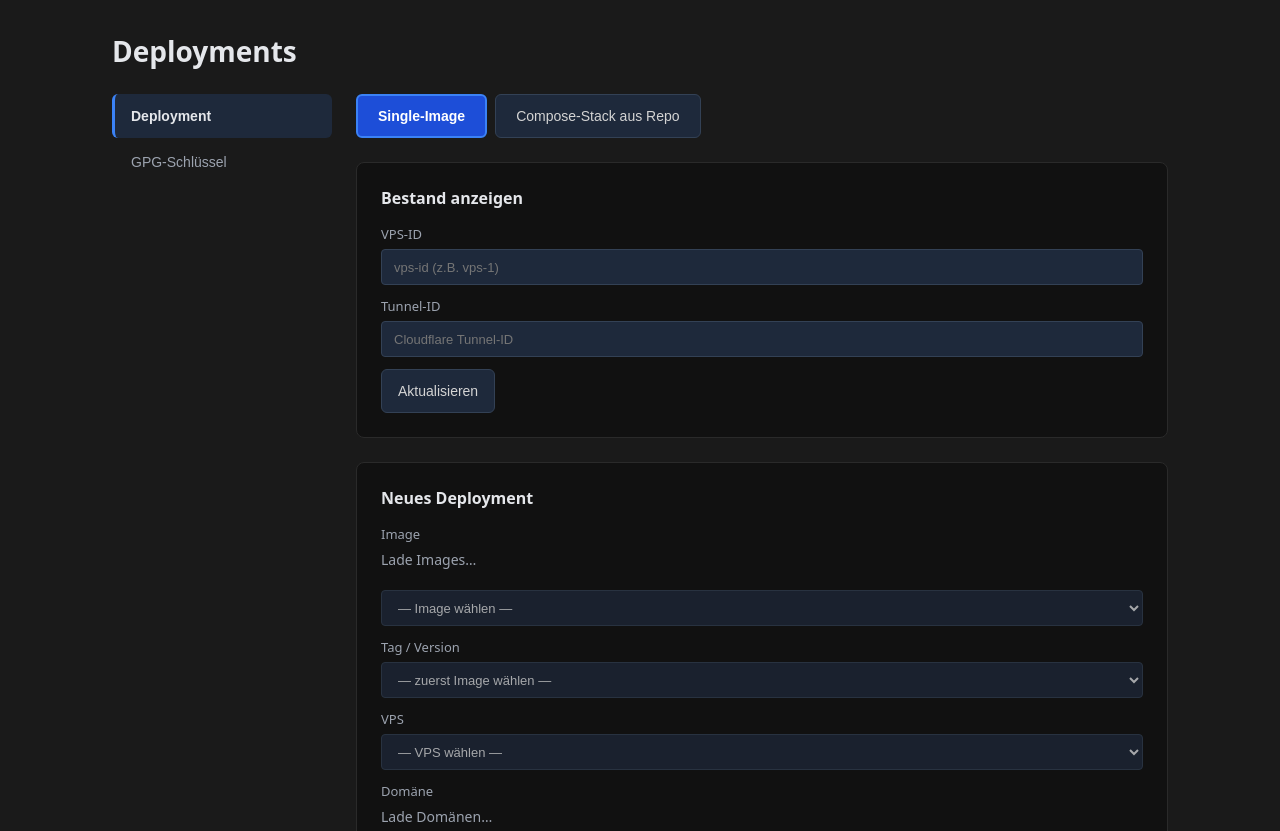
DeploymentsView — AC12: Stack-Deploy (POST /api/deployments/stacks/{stackName}/deploy) › shows error on network failure during deploy
This screenshot has width=1280, height=831.
Click the button "Compose-Stack aus Repo". click: (598, 116)
box: left=495, top=94, right=700, bottom=138
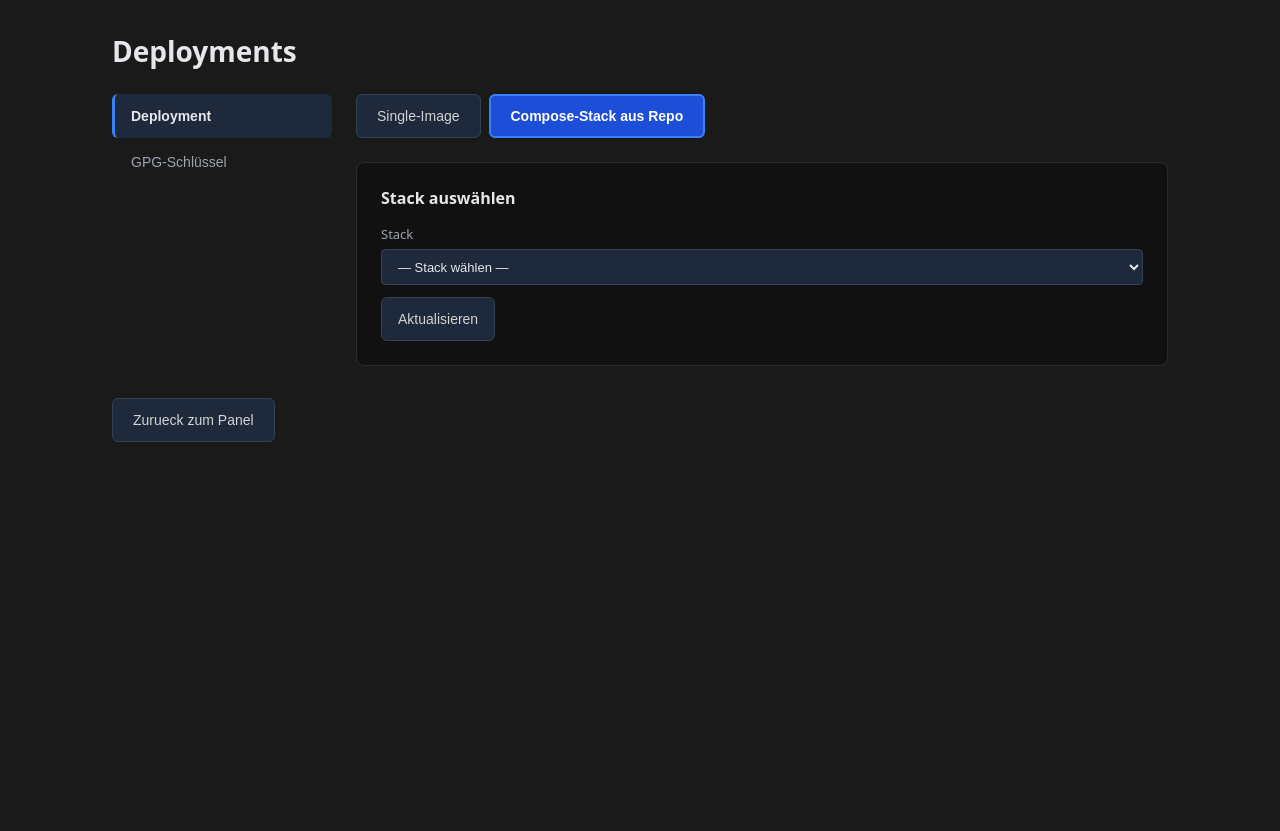
Expected: the dropdown named "Compose-Stack auswählen" is shown
Select "myapp" in the dropdown named "Compose-Stack auswählen". click: (762, 267)
box: left=381, top=249, right=1143, bottom=285
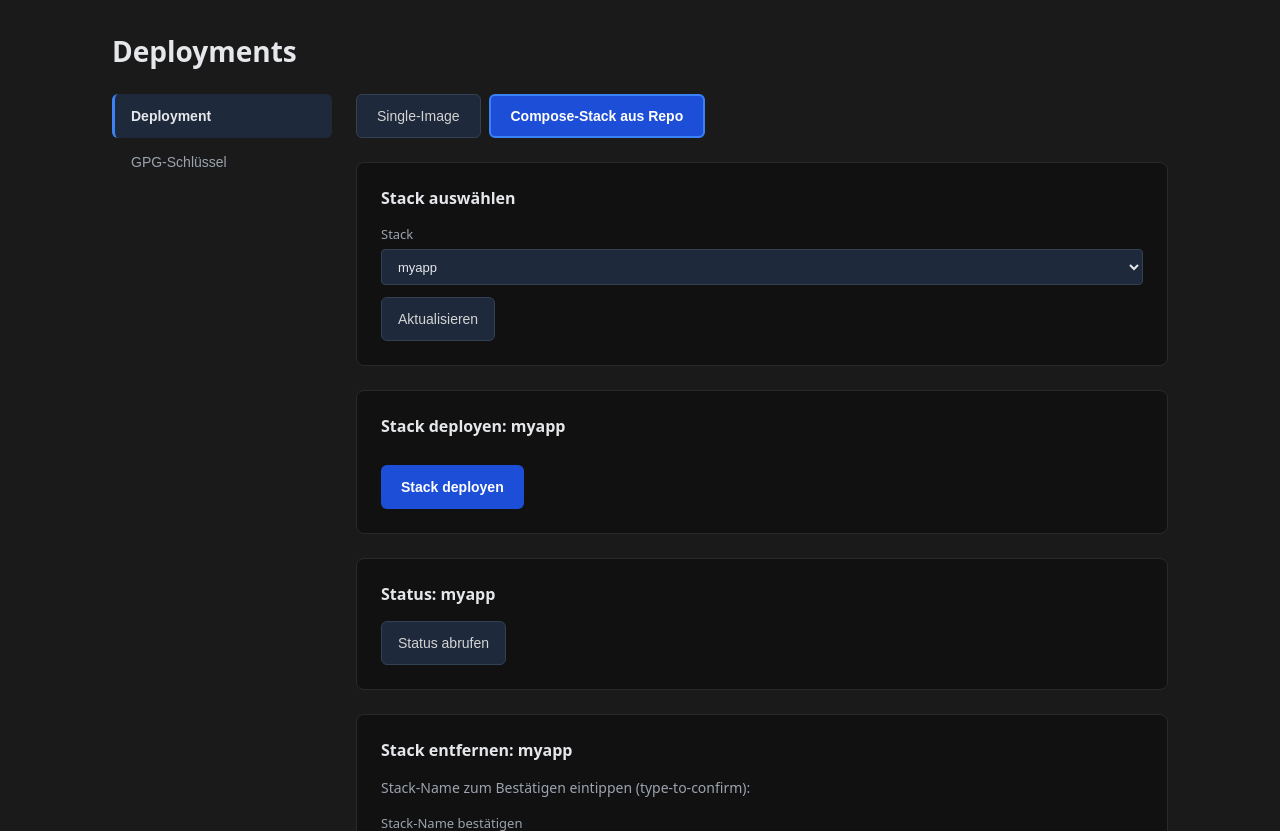
Expected: the form named "Stack-Deploy-Formular" is shown
Submit the form named "Stack-Deploy-Formular", box left=381, top=465, right=524, bottom=509
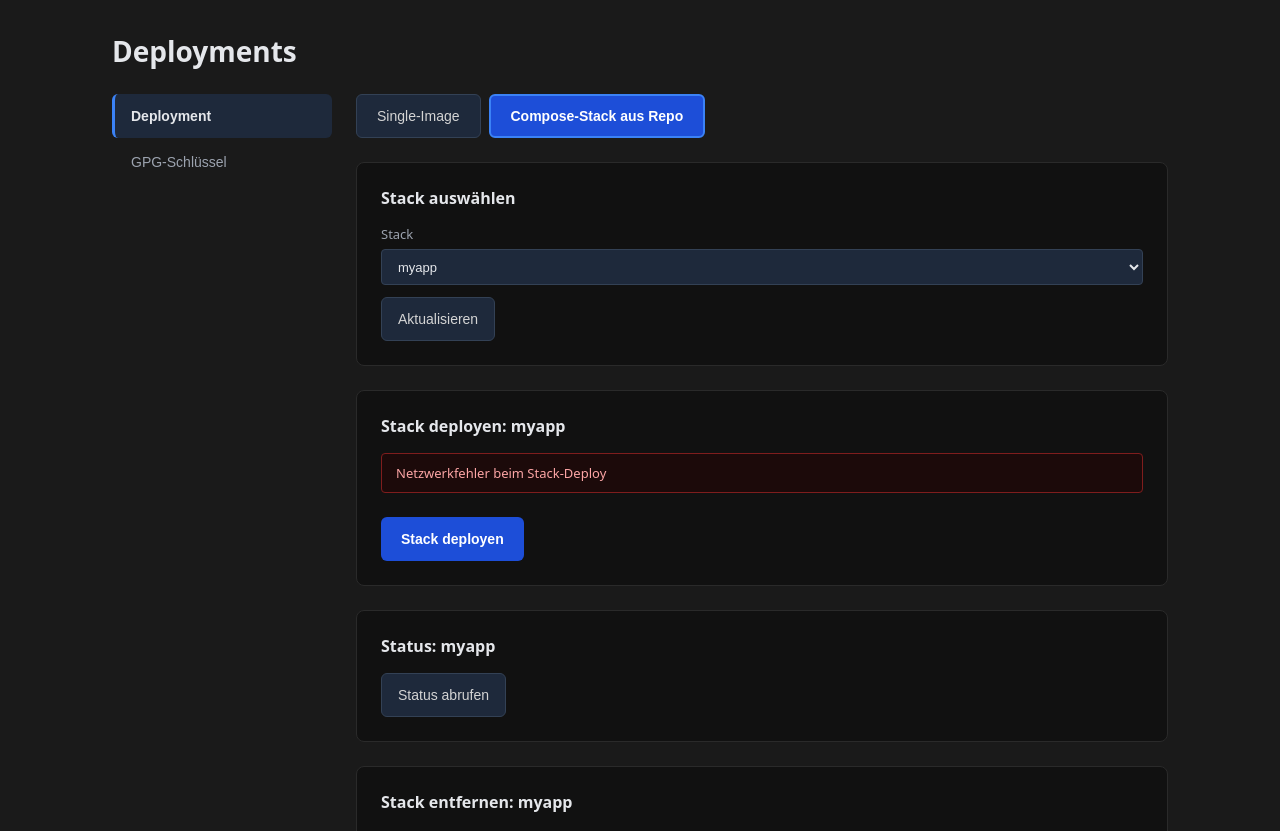
Expected: the message shows "Netzwerkfehler", left=396, top=464, right=606, bottom=482
